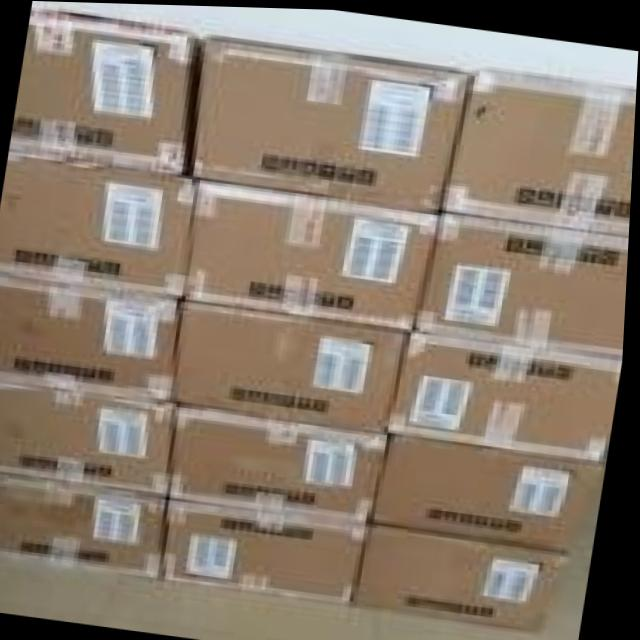box: (190, 33, 468, 209), (188, 176, 443, 330), (444, 62, 637, 231), (418, 207, 631, 354), (10, 7, 196, 174), (388, 329, 626, 458), (177, 300, 410, 429), (0, 151, 198, 297), (379, 430, 607, 548), (171, 403, 391, 521), (0, 273, 184, 399), (359, 522, 574, 629), (170, 498, 374, 601), (0, 379, 181, 495), (0, 474, 170, 577)
